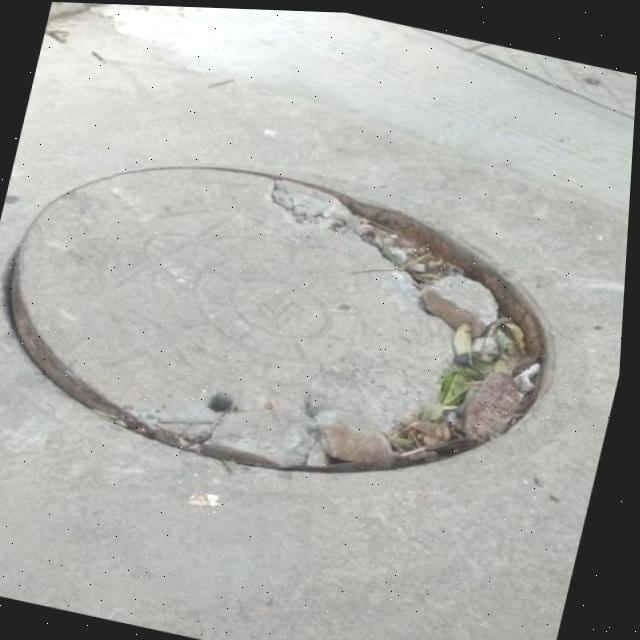manhole: (0, 111, 602, 528)
